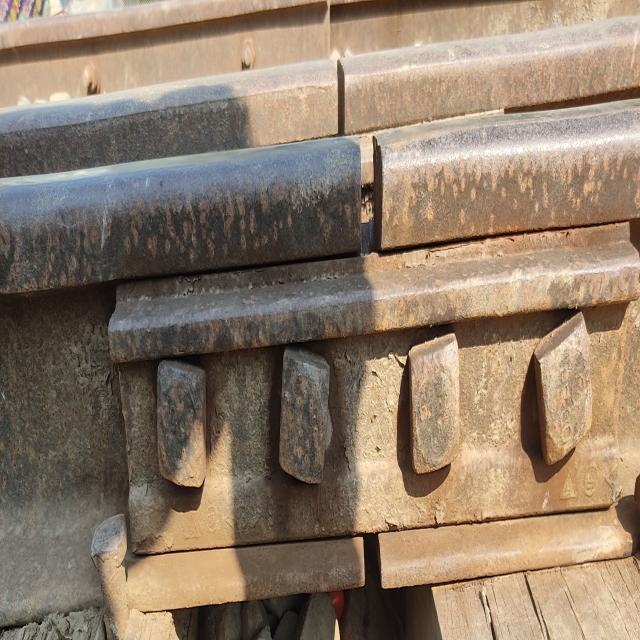Good Joint: (108, 225, 640, 554)
